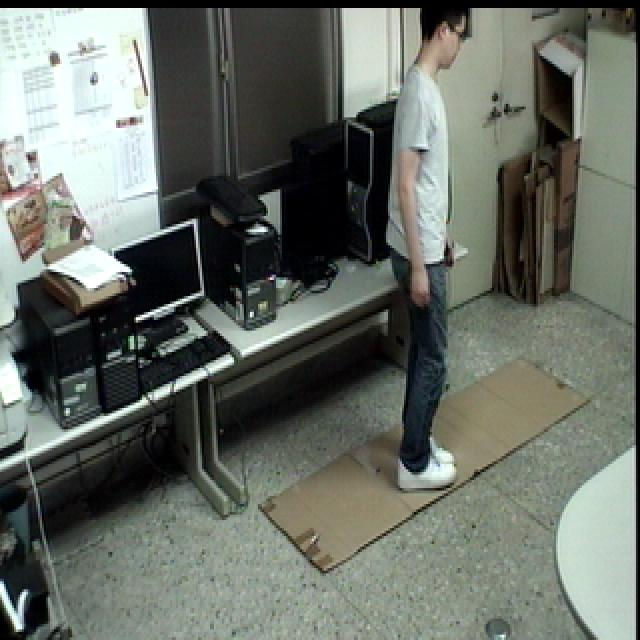stand: (383, 0, 478, 506)
